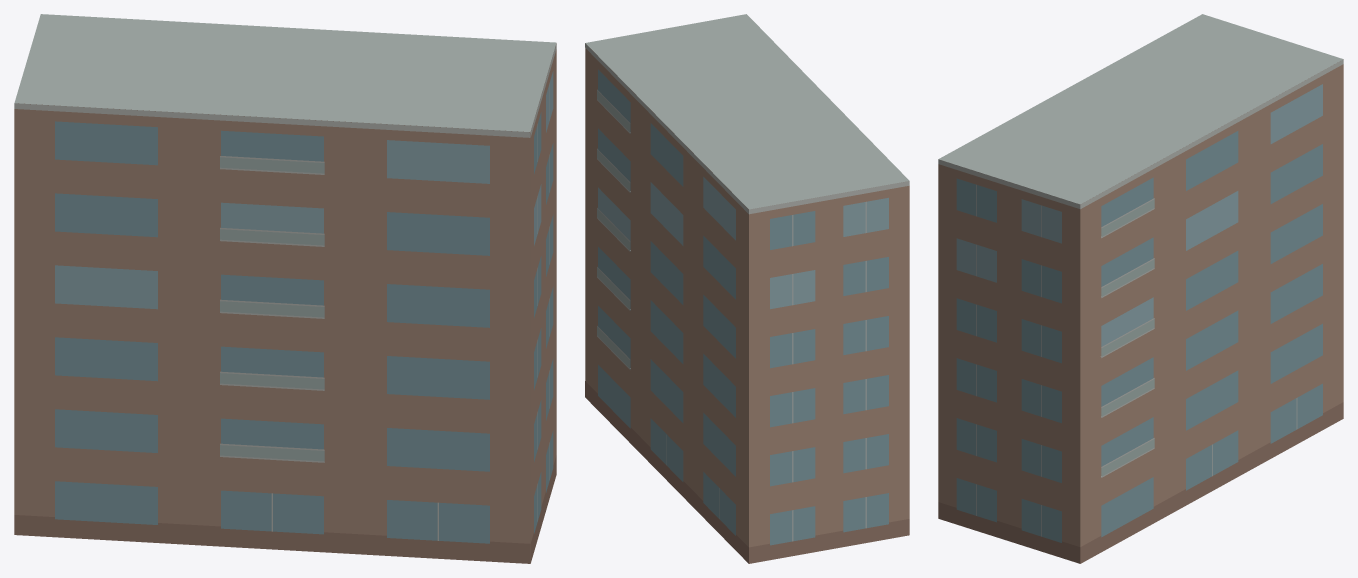
File: survey-upis-32920358.glb
3 renders of one model, left to right at view 1: azimuth 30°, elevation 25°; view 2: azimuth 150°, elevation 25°; view 3: azimuth 270°, elevation 25°, orthographic. The views are drawn at different scales.
Visible parts, largest first — view 1: survey-upis-32920358.tmp; view 2: survey-upis-32920358.tmp; view 3: survey-upis-32920358.tmp.
Part boxes in pixels (box(x1,y1,x2,y2)): survey-upis-32920358.tmp: box(14, 14, 556, 563); survey-upis-32920358.tmp: box(585, 14, 909, 563); survey-upis-32920358.tmp: box(938, 14, 1343, 563).
Size of the model in its own units: 20.81 by 18.3 by 18.72.
